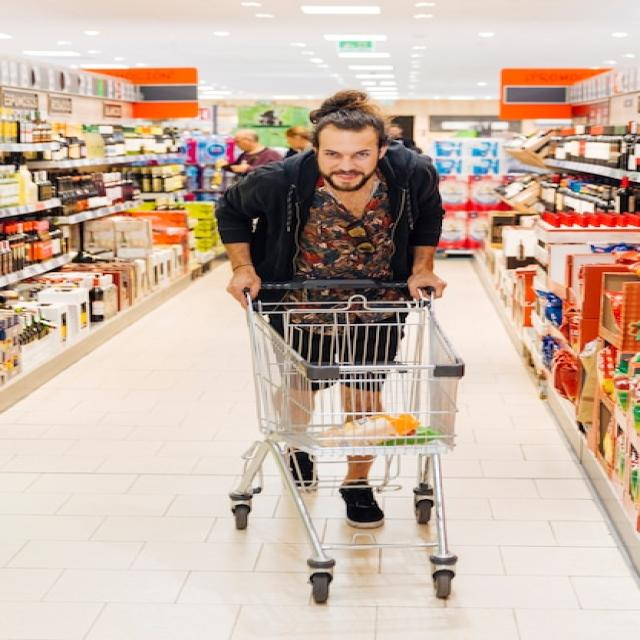Person: (216, 88, 445, 528)
